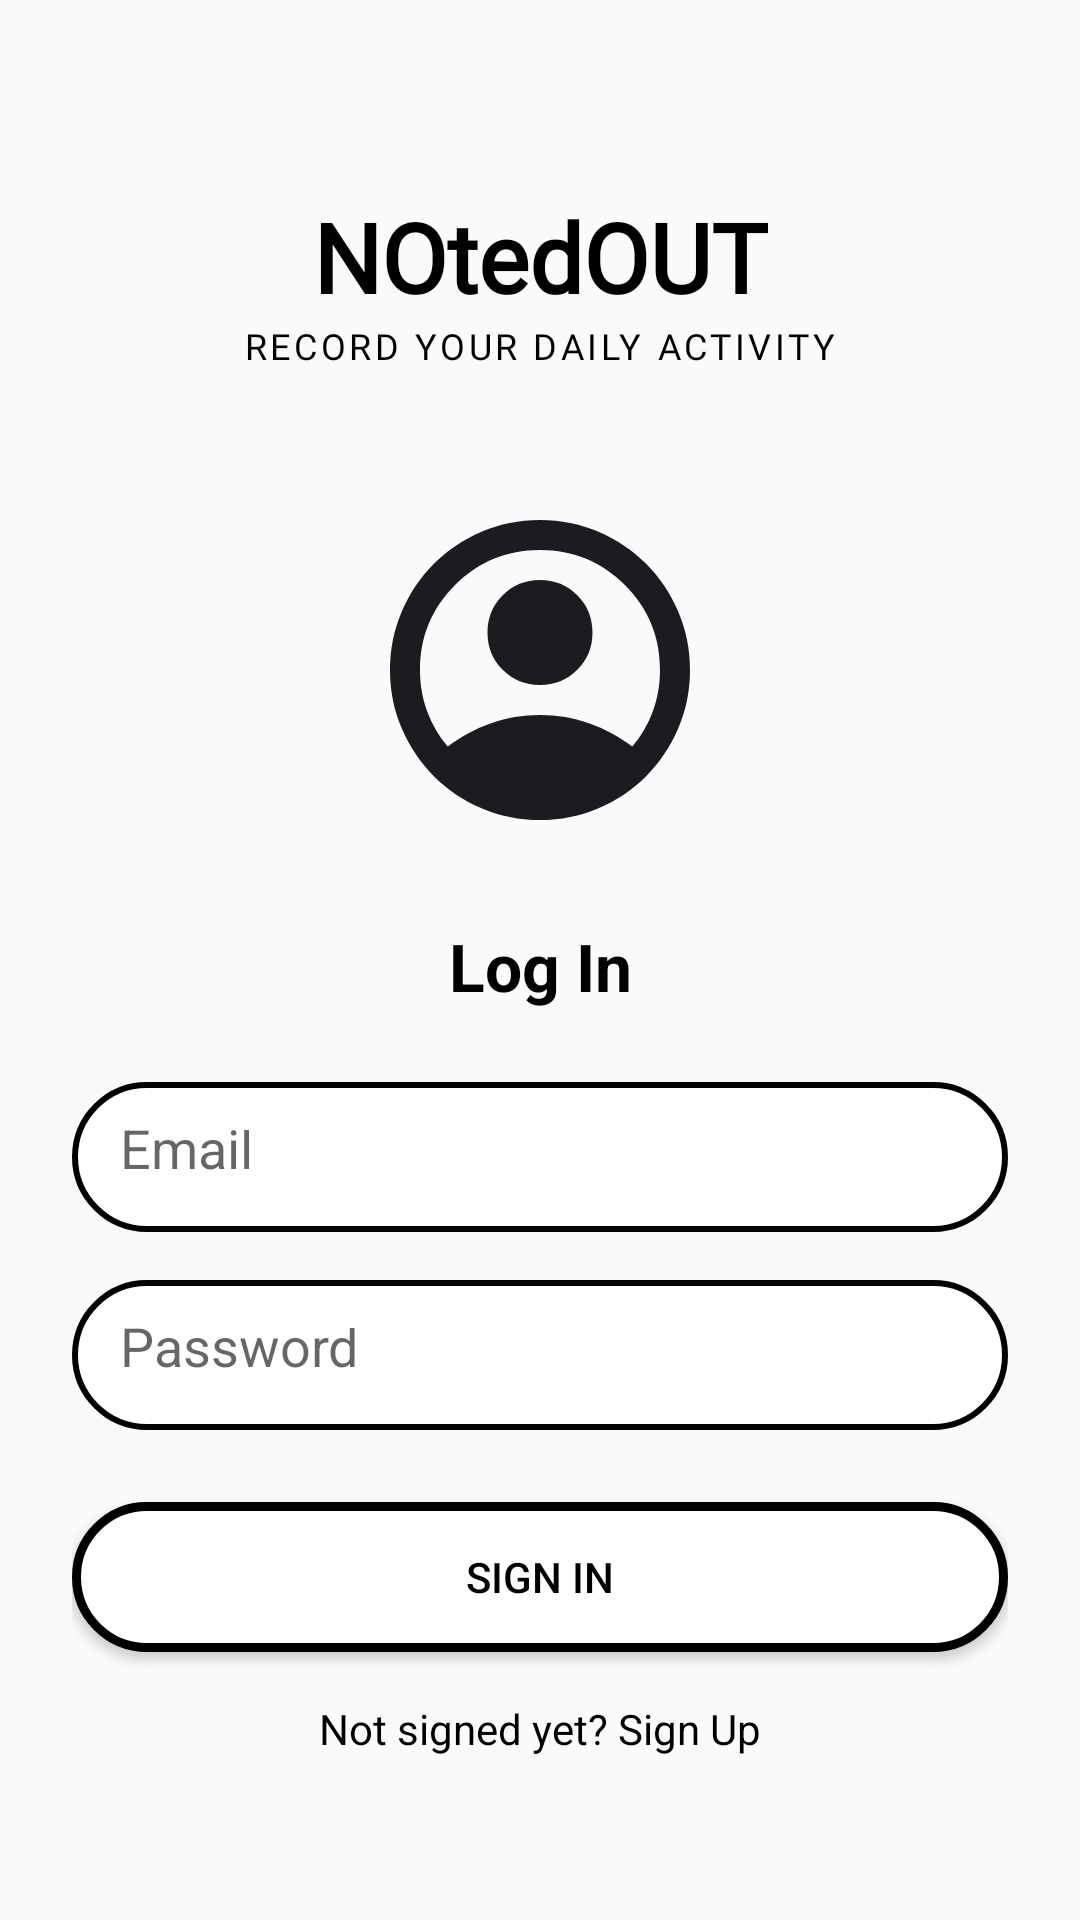

Screen size 1080×1920. Icon name, then its center in pixels as point (x, y):
account circle: point (540, 670)
